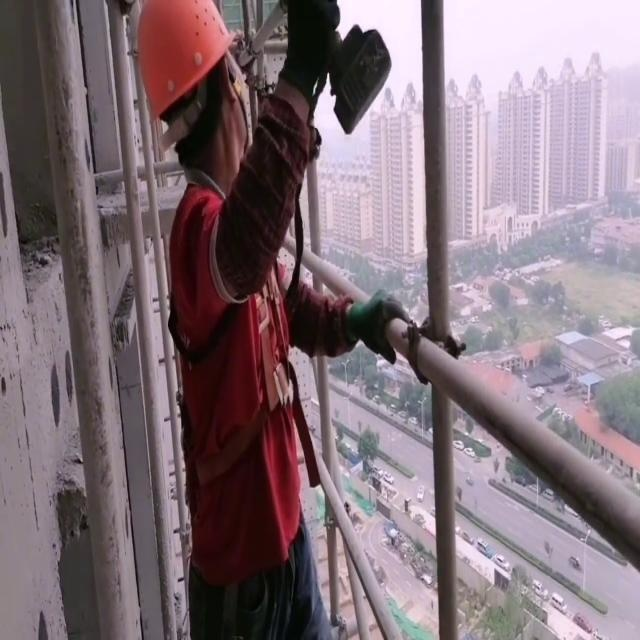Arnes_seguridad: (165, 181, 307, 491)
